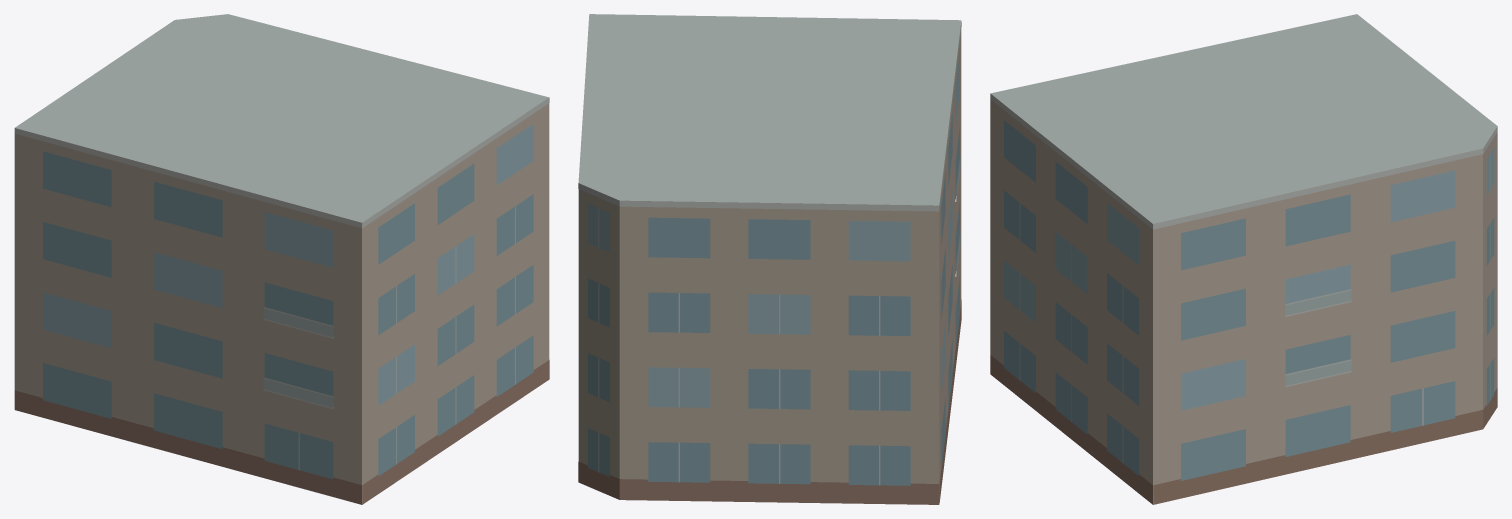
The model's file is survey-upis-32828637.glb.
3 views of the same model, side by side, from view 1: azimuth 30°, elevation 25°; view 2: azimuth 150°, elevation 25°; view 3: azimuth 270°, elevation 25° (orthographic). The views are drawn at different scales.
Parts seen in each view (by area): view 1: survey-upis-32828637.tmp; view 2: survey-upis-32828637.tmp; view 3: survey-upis-32828637.tmp.
Part boxes in pixels (x1=…): survey-upis-32828637.tmp: x1=14, y1=14, x2=549, y2=504; survey-upis-32828637.tmp: x1=578, y1=14, x2=961, y2=504; survey-upis-32828637.tmp: x1=990, y1=14, x2=1497, y2=504.
Bounding box in the file's own units: 19.58 × 12.2 × 19.98.
